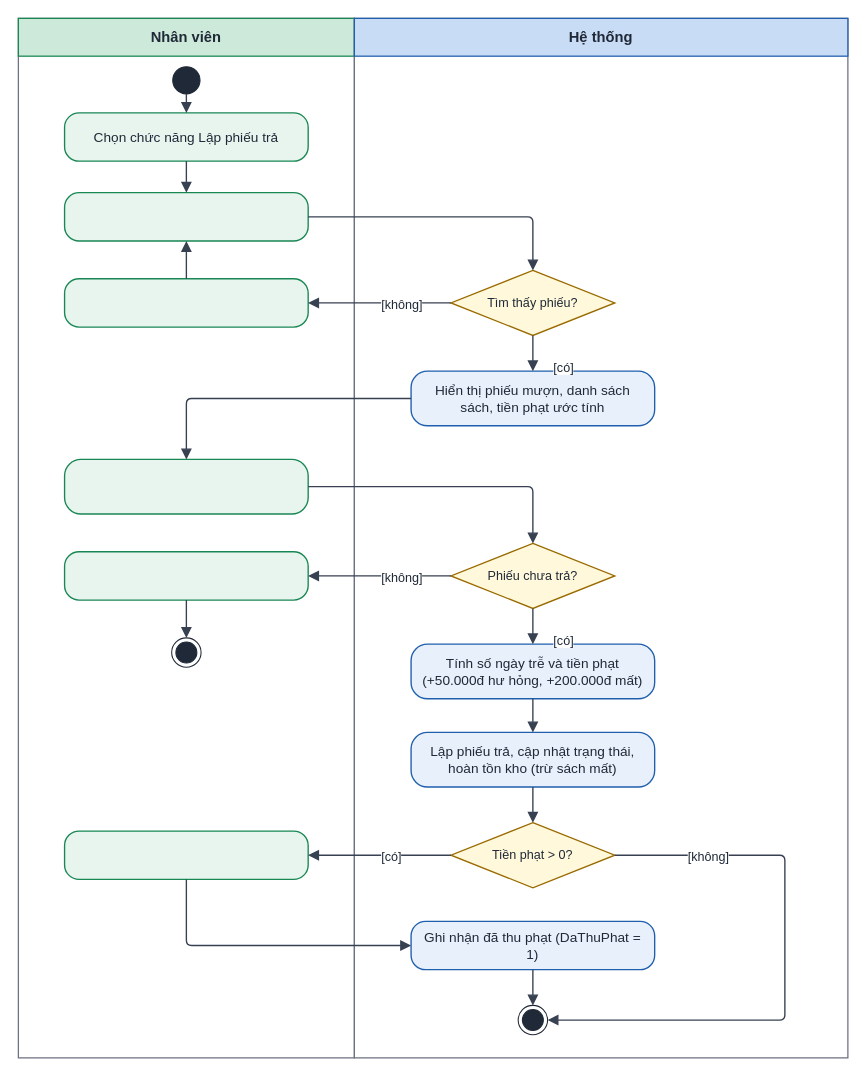
The diagram is 867 pixels wide and 1077 high, and some of its shapes have lost their labels. Here are the shapes that lost their labels. From the top down, the box of each, then its label:
(63, 192, 308, 241): Nhập mã phiếu mượn, nhấn Tìm phiếu
(63, 278, 308, 327): Xem thông báo không tìm thấy phiếu
(63, 458, 308, 514): Chọn tình trạng sách, nhập ghi chú, nhấn Xác nhận
(63, 551, 308, 600): Xem thông báo lỗi
(63, 830, 308, 880): Thu tiền của độc giả, nhấn Thu phạt
